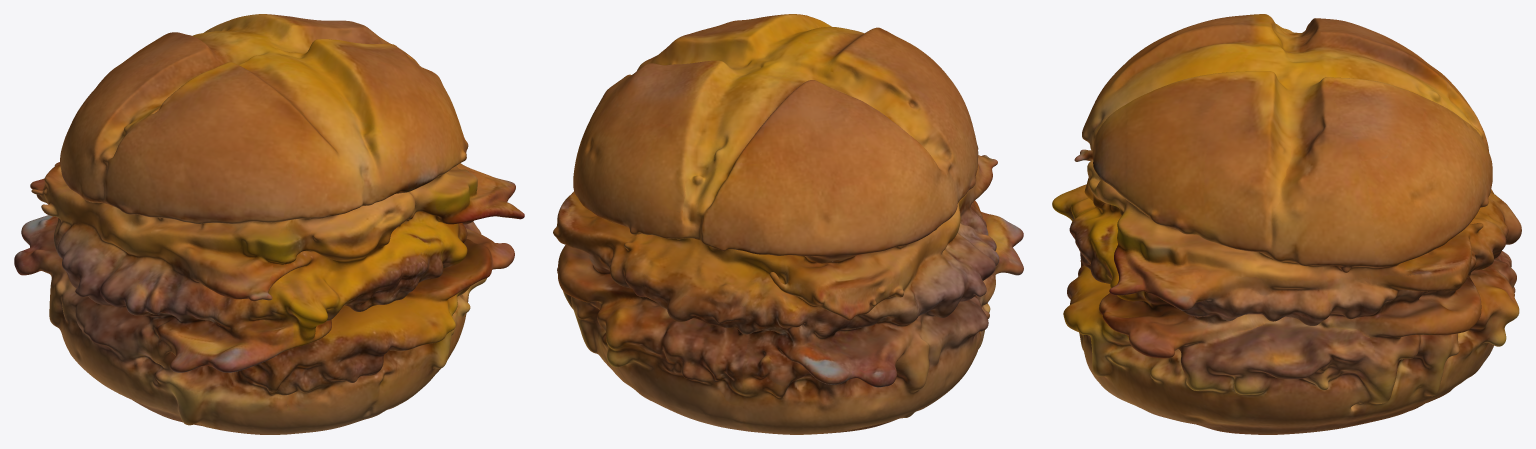
Rendered from Modelo 3d Hamburguesa.glb.
3 views of the same model, side by side, from view 1: azimuth 30°, elevation 25°; view 2: azimuth 150°, elevation 25°; view 3: azimuth 270°, elevation 25° (orthographic). The views are drawn at different scales.
Visible parts, largest first — view 1: tripo_node_cfdc0655-57dd-4e37-a49a-9898d826ee9d; view 2: tripo_node_cfdc0655-57dd-4e37-a49a-9898d826ee9d; view 3: tripo_node_cfdc0655-57dd-4e37-a49a-9898d826ee9d.
Part boxes in pixels (<box>): tripo_node_cfdc0655-57dd-4e37-a49a-9898d826ee9d: <box>14,14,524,434</box>; tripo_node_cfdc0655-57dd-4e37-a49a-9898d826ee9d: <box>553,14,1023,434</box>; tripo_node_cfdc0655-57dd-4e37-a49a-9898d826ee9d: <box>1052,14,1521,434</box>.
Size of the model in its own units: 1 by 0.7933 by 0.9827.
1 material, 1 textured.
